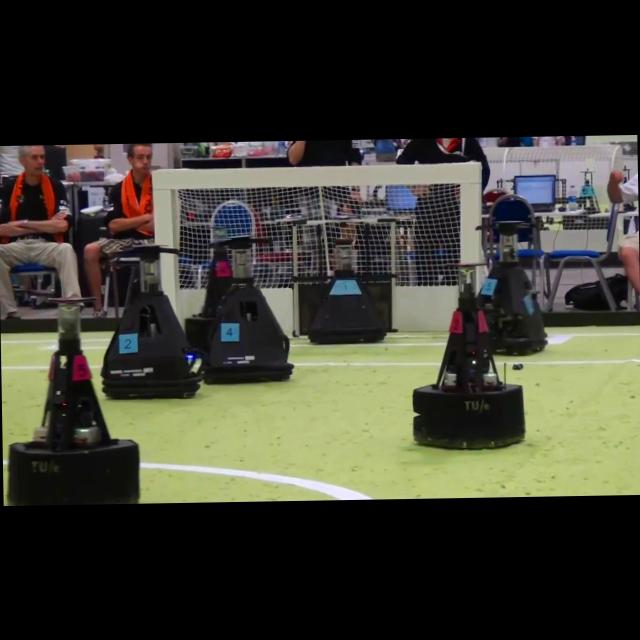robot: (7, 298, 139, 504), (413, 264, 523, 448), (101, 245, 201, 399), (291, 216, 396, 343), (203, 236, 291, 382), (479, 223, 547, 354), (185, 242, 232, 352)
